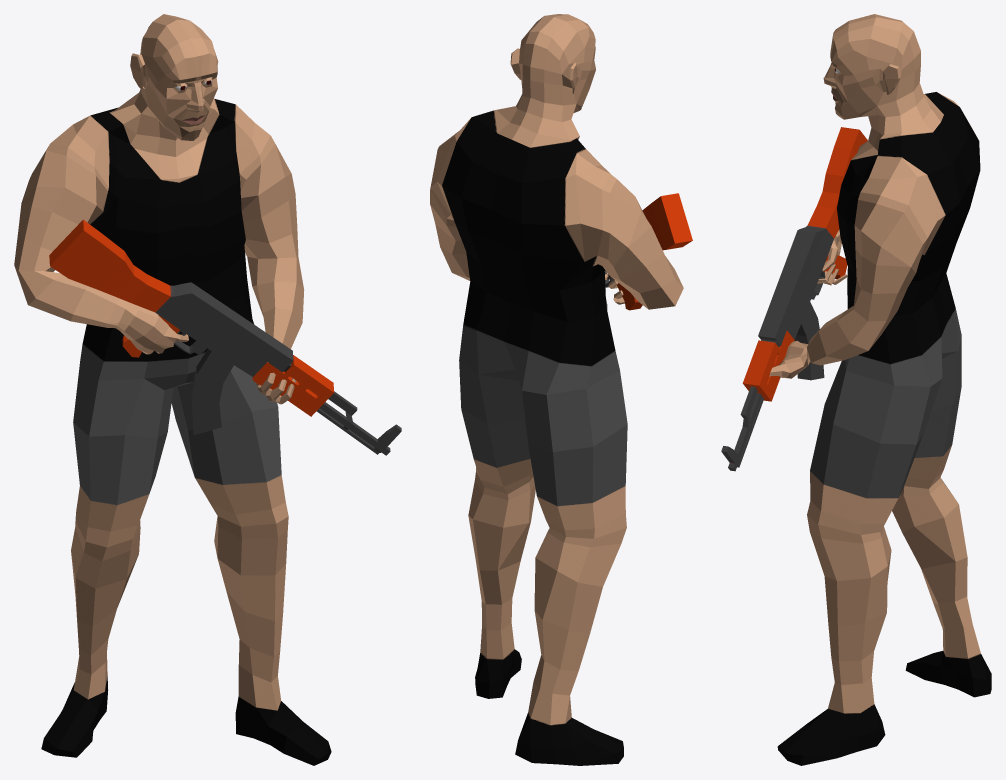
The model's file is PlayerIdle(43).obj.
3 views of the same model, side by side, from view 1: azimuth 30°, elevation 25°; view 2: azimuth 150°, elevation 25°; view 3: azimuth 270°, elevation 25° (orthographic). The views are drawn at different scales.
Parts seen in each view (by area): view 1: Plane002, Object001; view 2: Plane002, Object001; view 3: Plane002, Object001.
Part boxes in pixels (bbox=[...]): Plane002: bbox=[14, 14, 331, 765]; Object001: bbox=[49, 219, 401, 455]; Plane002: bbox=[430, 14, 683, 765]; Object001: bbox=[604, 193, 692, 310]; Plane002: bbox=[769, 14, 991, 765]; Object001: bbox=[721, 127, 867, 471].
Size of the model in its own units: 745 by 1805 by 636.
